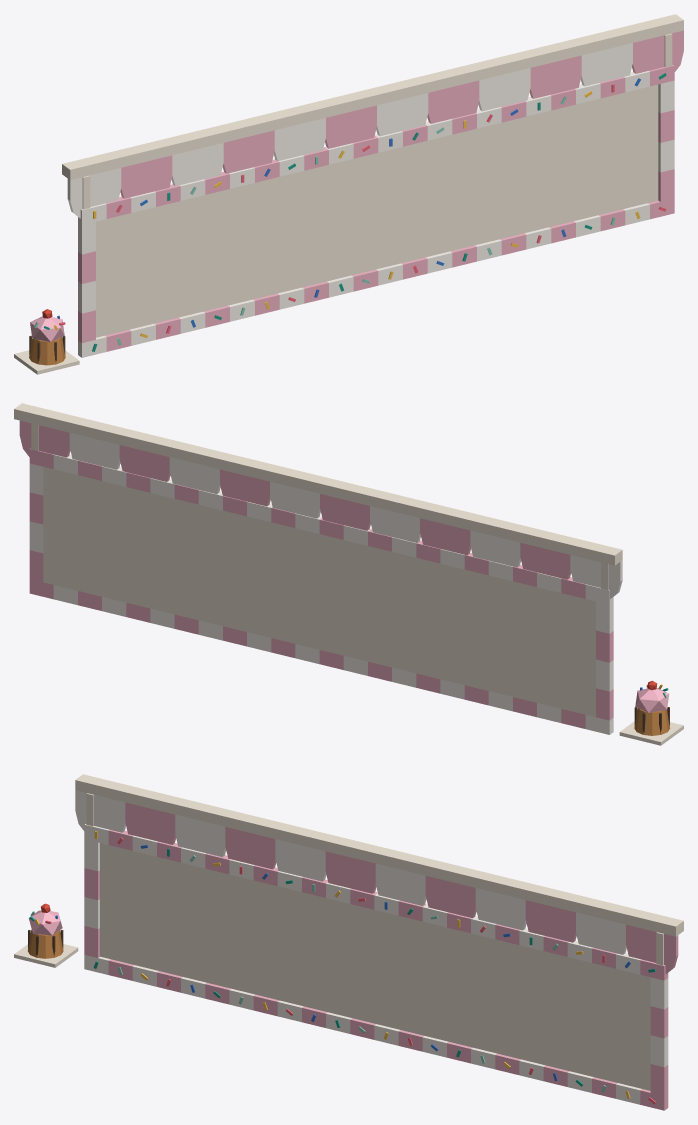
The model's file is CatCafe_Plot_SignBakeryStripes.glb.
The picture shows the model from 3 angles, top to bottom: view 1: azimuth 30°, elevation 25°; view 2: azimuth 150°, elevation 25°; view 3: azimuth 330°, elevation 25°; orthographic projection. The views are drawn at different scales.
Parts seen in each view (by area): view 1: CatCafe_Plot_SignBakeryStripes_SignBoard, CatCafe_Plot_SignBakeryStripes; view 2: CatCafe_Plot_SignBakeryStripes_SignBoard, CatCafe_Plot_SignBakeryStripes; view 3: CatCafe_Plot_SignBakeryStripes_SignBoard, CatCafe_Plot_SignBakeryStripes.
Part boxes in pixels (bbox=[...]): CatCafe_Plot_SignBakeryStripes_SignBoard: bbox=[96, 84, 658, 337]; CatCafe_Plot_SignBakeryStripes: bbox=[14, 14, 683, 374]; CatCafe_Plot_SignBakeryStripes_SignBoard: bbox=[43, 467, 595, 716]; CatCafe_Plot_SignBakeryStripes: bbox=[14, 403, 683, 745]; CatCafe_Plot_SignBakeryStripes_SignBoard: bbox=[100, 843, 650, 1090]; CatCafe_Plot_SignBakeryStripes: bbox=[14, 774, 683, 1110].
Size of the model in its own units: 18.75 by 5.14 by 1.15.
Materials: 1 (1 with a texture image).
